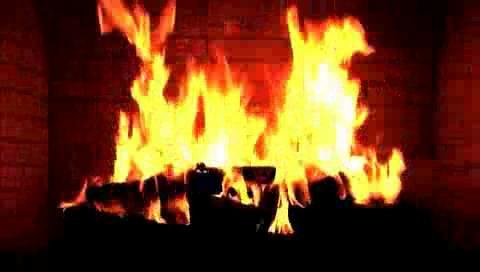fire: (113, 14, 391, 221)
